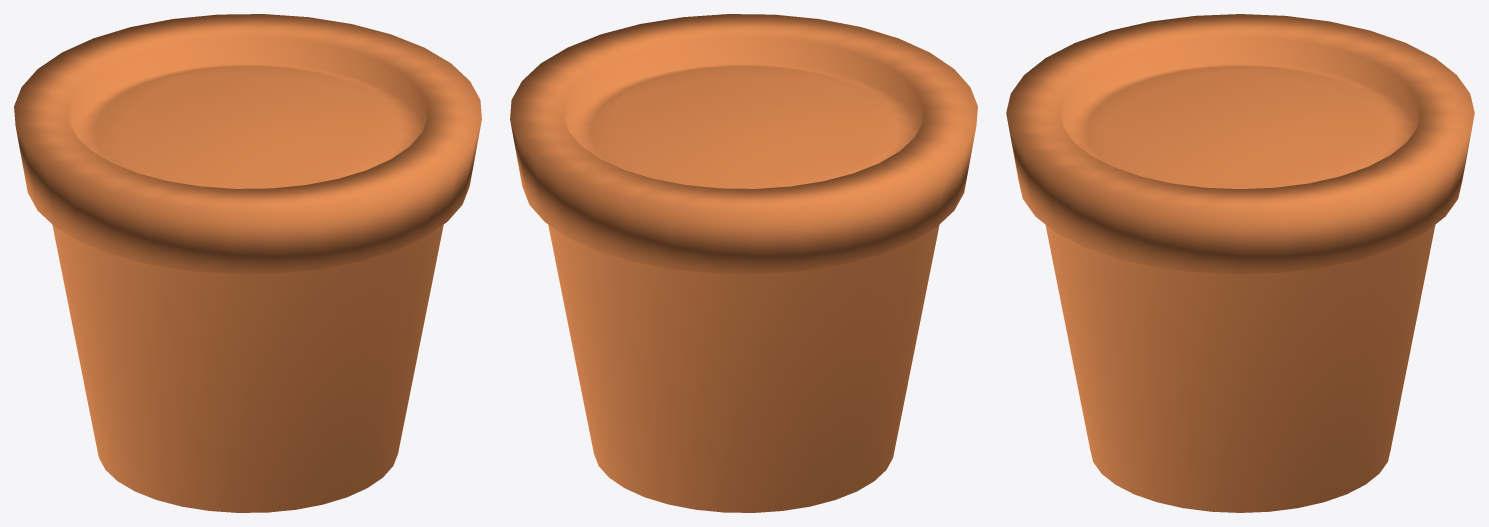
Rendered from S_Pot.glb.
3 renders of one model, left to right at view 1: azimuth 30°, elevation 25°; view 2: azimuth 150°, elevation 25°; view 3: azimuth 270°, elevation 25°, orthographic.
Parts seen in each view (by area): view 1: S_Pot_low; view 2: S_Pot_low; view 3: S_Pot_low.
Boxes of the visible parts, x1,y1,x2,y2 form: S_Pot_low: (14, 14, 481, 512); S_Pot_low: (510, 14, 977, 512); S_Pot_low: (1006, 14, 1474, 512).
Bounding box in the file's own units: 0.4643 × 0.3678 × 0.4643.
